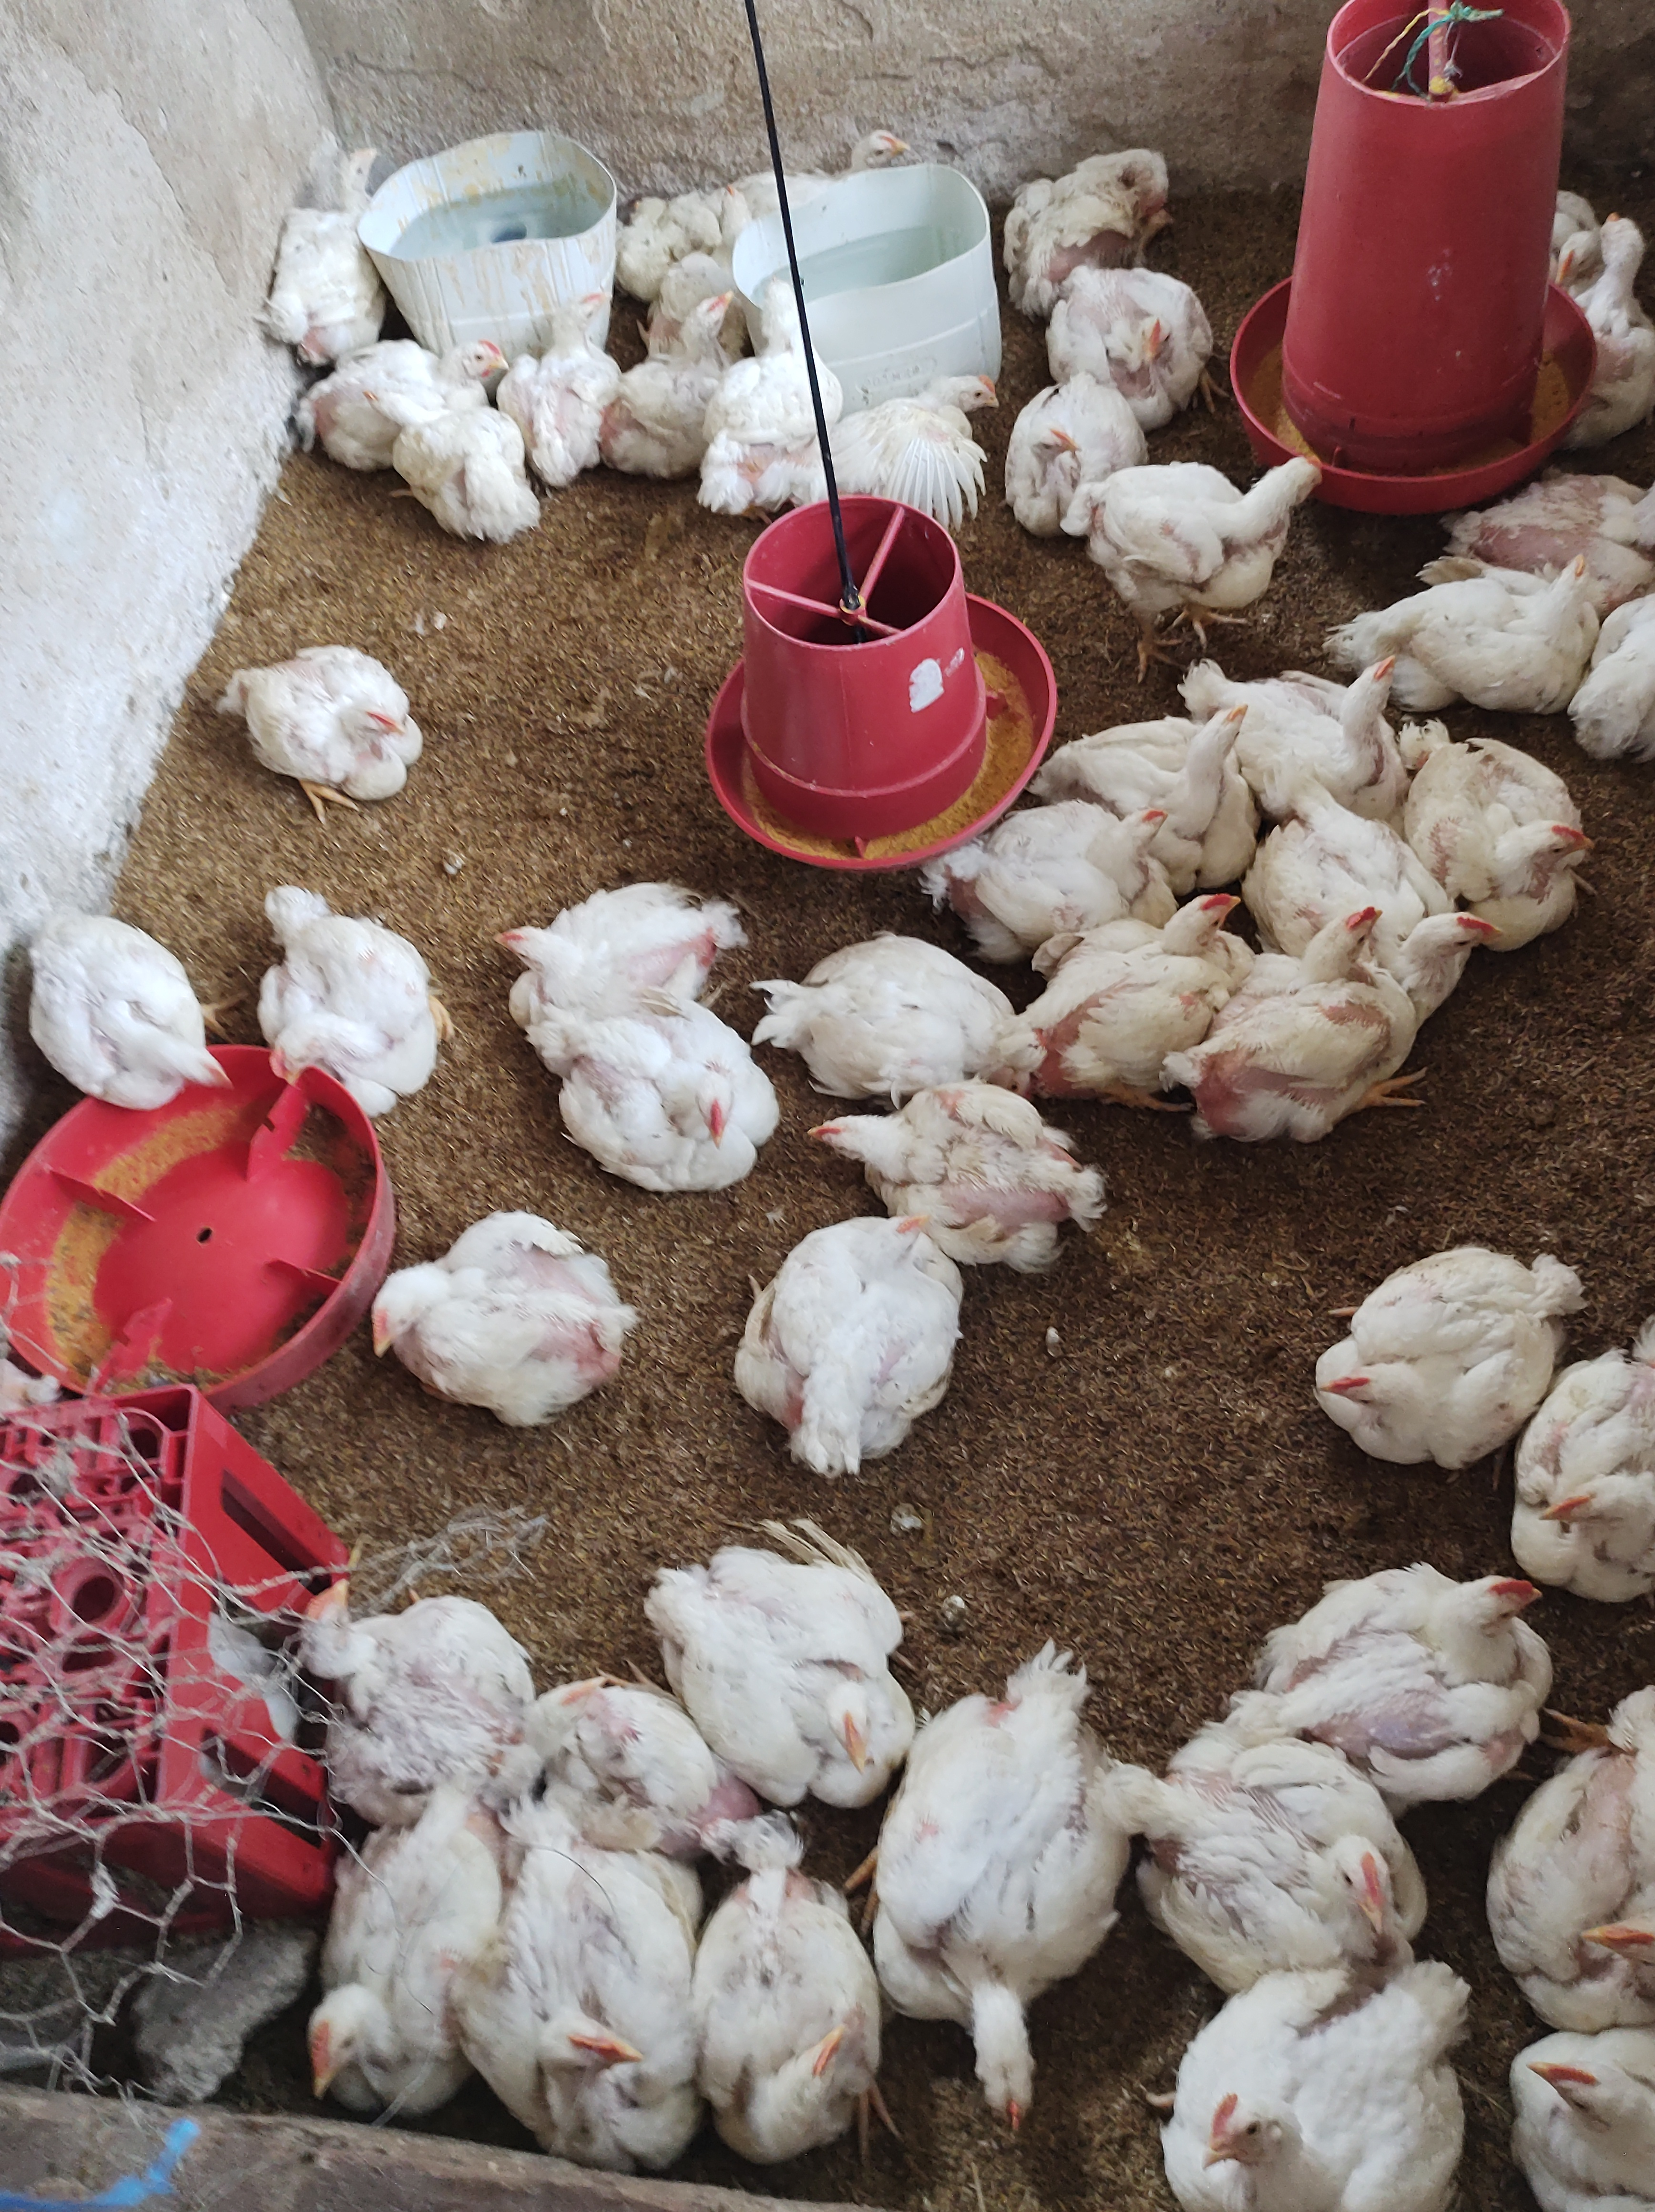Pollos: (885, 1722, 1166, 2125), (673, 1800, 901, 2203), (469, 1786, 701, 2155), (1161, 1722, 1459, 1984), (356, 1212, 643, 1464), (1264, 1553, 1545, 1809), (721, 1223, 977, 1485), (654, 1532, 920, 1781), (1137, 2003, 1439, 2212), (259, 1805, 469, 2095), (1299, 1233, 1554, 1456), (245, 873, 478, 1115), (746, 936, 1041, 1101), (202, 626, 435, 835), (7, 916, 236, 1125), (551, 1033, 789, 1223), (805, 1101, 1104, 1247), (1053, 880, 1253, 1050), (1125, 443, 1326, 609), (257, 139, 396, 358), (495, 878, 718, 1014), (1472, 440, 1655, 605), (1497, 2028, 1655, 2212), (1413, 560, 1598, 713), (713, 268, 829, 503), (1005, 143, 1196, 283), (1530, 1402, 1652, 1614), (351, 381, 502, 548), (845, 363, 998, 525), (1455, 743, 1608, 892), (1060, 257, 1205, 388), (1133, 704, 1264, 819), (1575, 1878, 1655, 2052), (1014, 390, 1114, 523), (534, 290, 626, 435), (1292, 650, 1408, 762), (1034, 798, 1177, 880), (1399, 880, 1504, 986), (1302, 894, 1386, 979), (664, 285, 756, 362), (1585, 210, 1655, 304), (433, 323, 516, 388), (701, 172, 768, 243), (1539, 230, 1613, 289), (838, 129, 934, 172)
